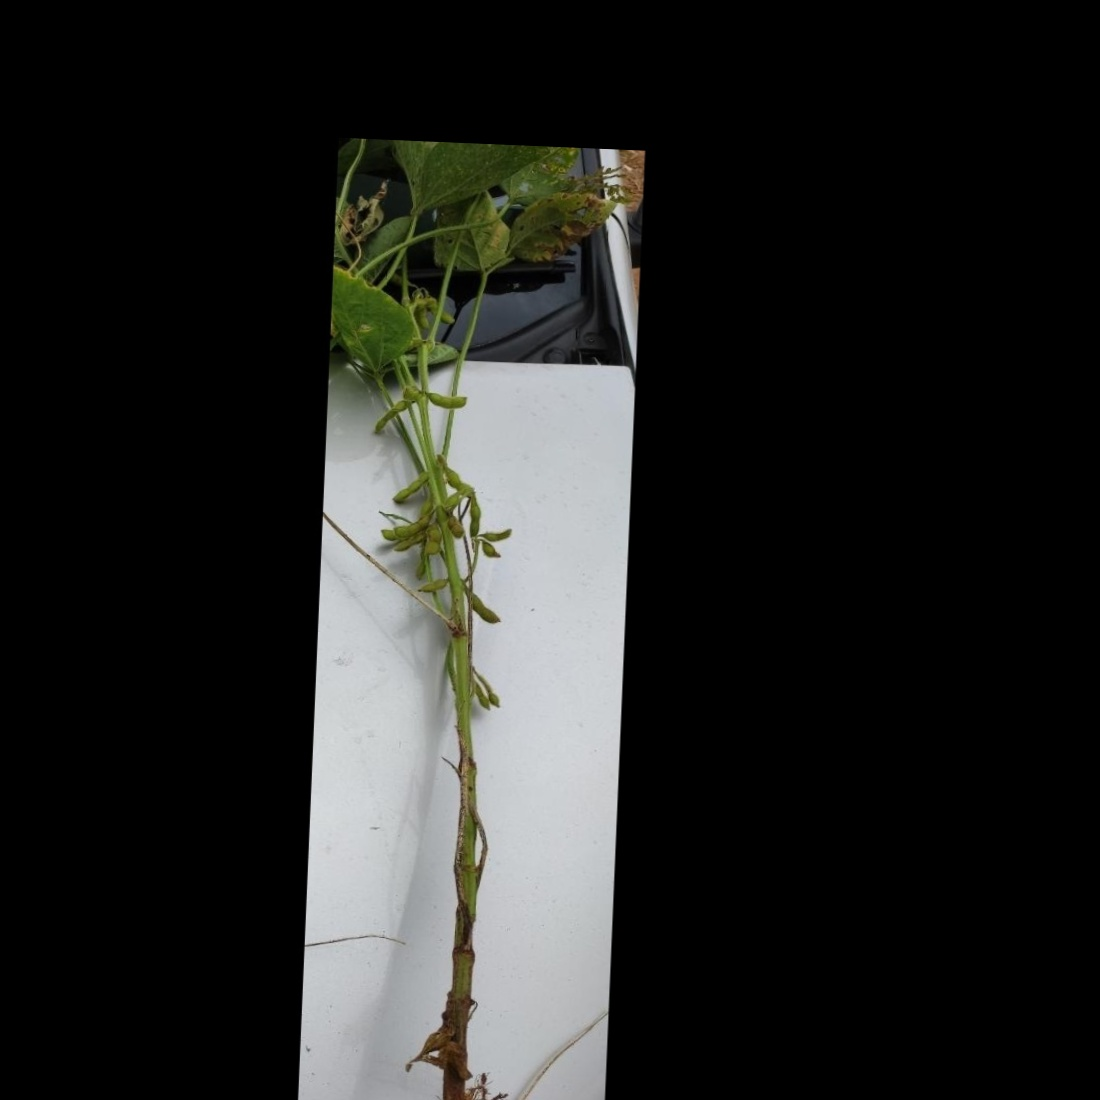pod: (371, 397, 415, 435), (460, 586, 503, 626), (389, 469, 428, 504), (425, 388, 468, 410), (475, 524, 520, 544), (425, 293, 452, 324), (467, 678, 491, 714), (465, 495, 482, 539), (414, 575, 449, 595), (424, 521, 444, 556), (476, 538, 504, 561), (443, 513, 466, 539), (488, 685, 506, 711), (417, 300, 430, 331)
soy: (306, 142, 618, 1100)
